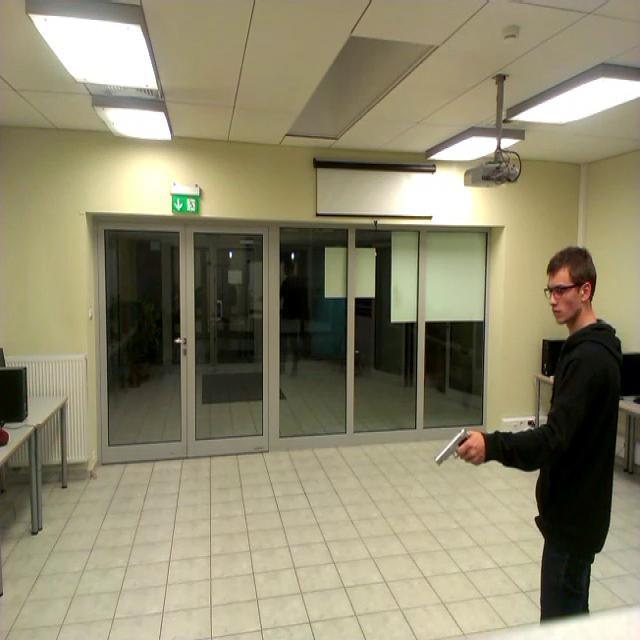Gun: (436, 427, 476, 465)
